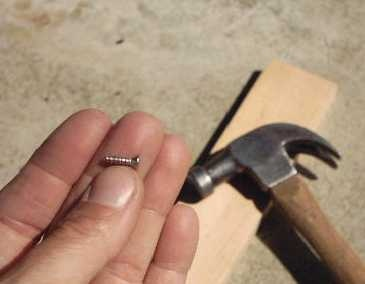hammer: (188, 122, 363, 284)
